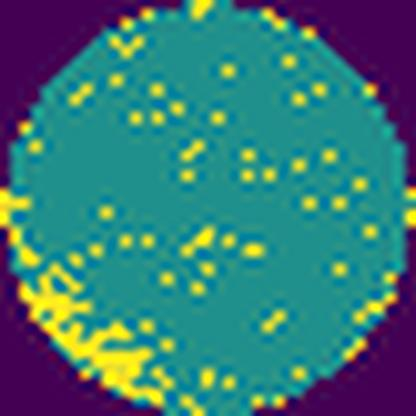Edge-Loc: (16, 264, 170, 406), (0, 184, 44, 268)
